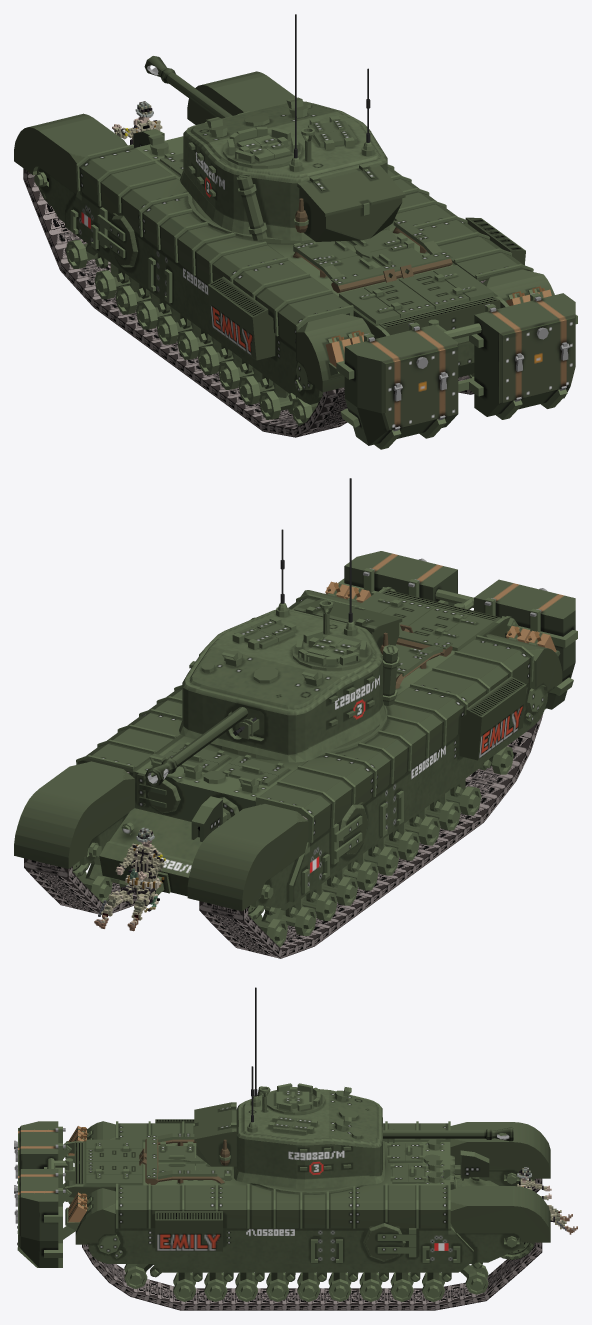
File: churchill_crocodile.glb
3 renders of one model, top to bottom at view 1: azimuth 30°, elevation 25°; view 2: azimuth 150°, elevation 25°; view 3: azimuth 270°, elevation 25°, orthographic. The views are drawn at different scales.
Visible parts, largest first — view 1: 00_chassis_churchill_crocodile_chassis.mesh, 02_turret_churchill_mkvii_turret.mesh, 06_track_churchill_mkvii_track.mesh, weapon_turret_0_churchill_mkvii_cannon.mesh, crew_soldier_SLOT_02_GUNNER; view 2: 00_chassis_churchill_crocodile_chassis.mesh, 02_turret_churchill_mkvii_turret.mesh, 06_track_churchill_mkvii_track.mesh, crew_soldier_SLOT_02_GUNNER, 05_track_churchill_mkvii_track.mesh, weapon_turret_0_churchill_mkvii_cannon.mesh, 04_turret_churchill_crocodile_flamedrive.mesh; view 3: 00_chassis_churchill_crocodile_chassis.mesh, 02_turret_churchill_mkvii_turret.mesh, 05_track_churchill_mkvii_track.mesh, weapon_turret_0_churchill_mkvii_cannon.mesh, crew_soldier_SLOT_02_GUNNER, 04_turret_churchill_crocodile_flamedrive.mesh.
Boxes of the visible parts, x1,y1,x2,y2 form: 00_chassis_churchill_crocodile_chassis.mesh: [14, 71, 577, 449]; 02_turret_churchill_mkvii_turret.mesh: [180, 14, 405, 241]; 06_track_churchill_mkvii_track.mesh: [23, 168, 347, 437]; weapon_turret_0_churchill_mkvii_cannon.mesh: [144, 56, 232, 118]; crew_soldier_SLOT_02_GUNNER: [112, 101, 162, 144]; 00_chassis_churchill_crocodile_chassis.mesh: [14, 551, 577, 933]; 02_turret_churchill_mkvii_turret.mesh: [179, 478, 402, 762]; 06_track_churchill_mkvii_track.mesh: [199, 713, 543, 958]; crew_soldier_SLOT_02_GUNNER: [94, 827, 165, 931]; 05_track_churchill_mkvii_track.mesh: [24, 772, 138, 915]; weapon_turret_0_churchill_mkvii_cannon.mesh: [145, 707, 248, 786]; 04_turret_churchill_crocodile_flamedrive.mesh: [191, 796, 226, 841]; 00_chassis_churchill_crocodile_chassis.mesh: [14, 1119, 550, 1281]; 02_turret_churchill_mkvii_turret.mesh: [193, 987, 394, 1188]; 05_track_churchill_mkvii_track.mesh: [82, 1238, 542, 1310]; weapon_turret_0_churchill_mkvii_cannon.mesh: [383, 1127, 513, 1141]; crew_soldier_SLOT_02_GUNNER: [517, 1167, 577, 1234]; 04_turret_churchill_crocodile_flamedrive.mesh: [455, 1150, 489, 1180].
Size of the model in its own units: 4.56 by 5.74 by 10.76.
40 materials, 4 textured.
